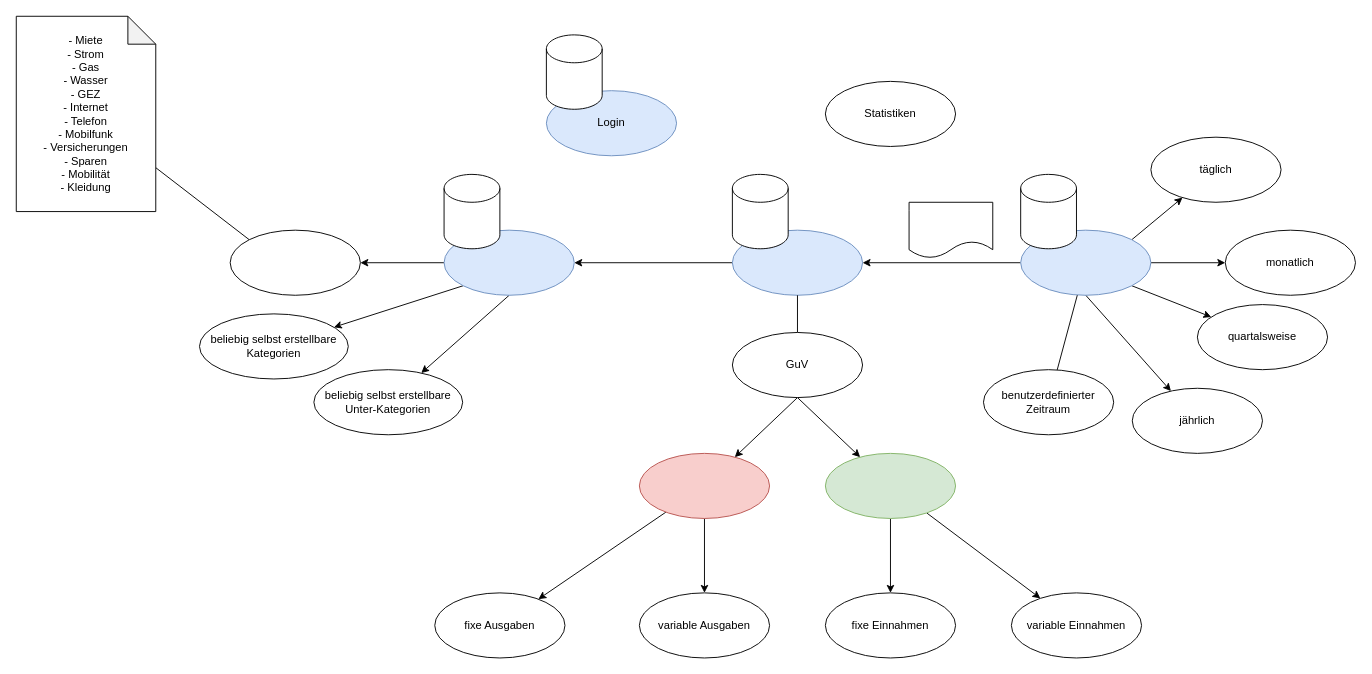
The diagram is 1372 pixels wide and 674 high, and some of its shapes have lost their labels. The shapes that lost their labels are listed below. From the top down, each one's centre as x and y in pixels, then its label:
At point 950,229: "TRIGGER".
At point 294,262: "Standardsatz an Kategorien".
At point 508,262: "Kategorien".
At point 797,262: "Buchungen".
At point 1085,262: "wiederkehrende Buchungen".
At point 704,485: "Ausgabe".
At point 890,485: "Einnahme".
